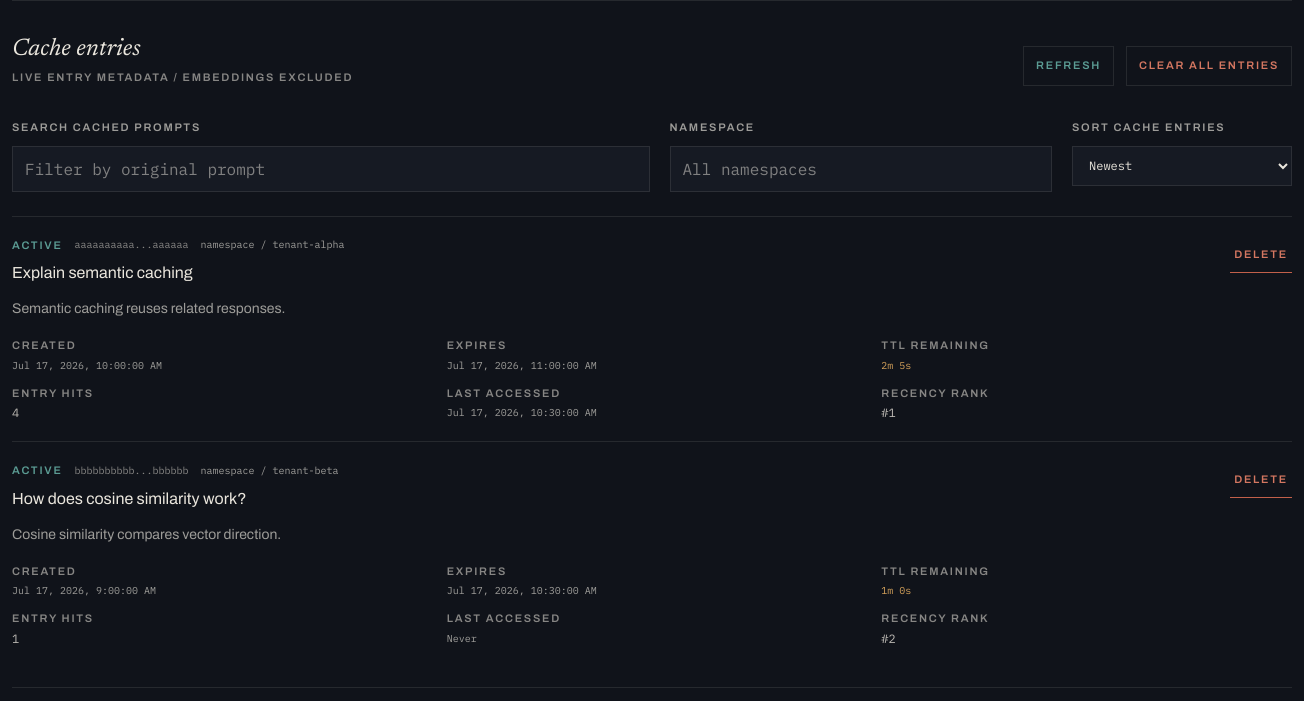
Test: CacheInspector › confirms clear-all and refreshes after the mutation
Expected: the heading "Explain semantic caching" is shown, [12,264,193,281]
Click the button "Clear all entries" at (1209, 66), box [1126,46,1292,86]
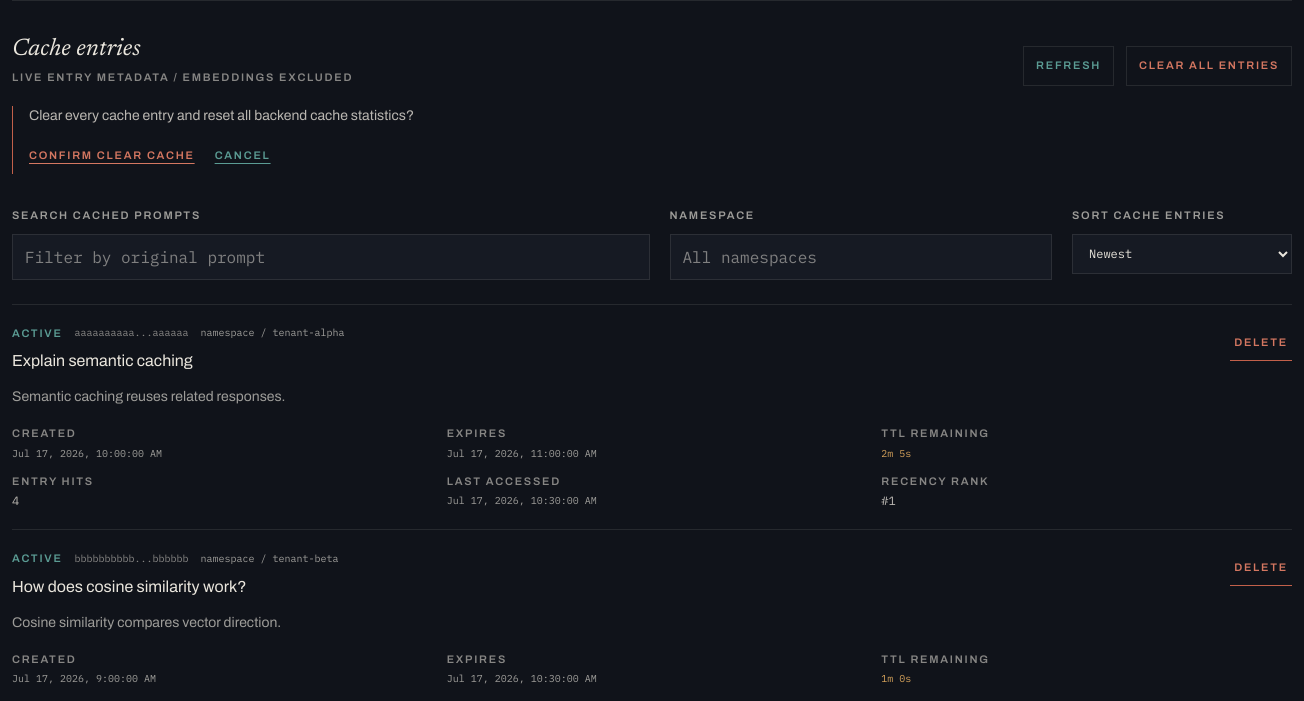
Now the element named "Confirm clear cache" is shown, box [12,106,1292,174]
Click the button "Confirm clear cache" at (112, 156), box [29,138,195,174]
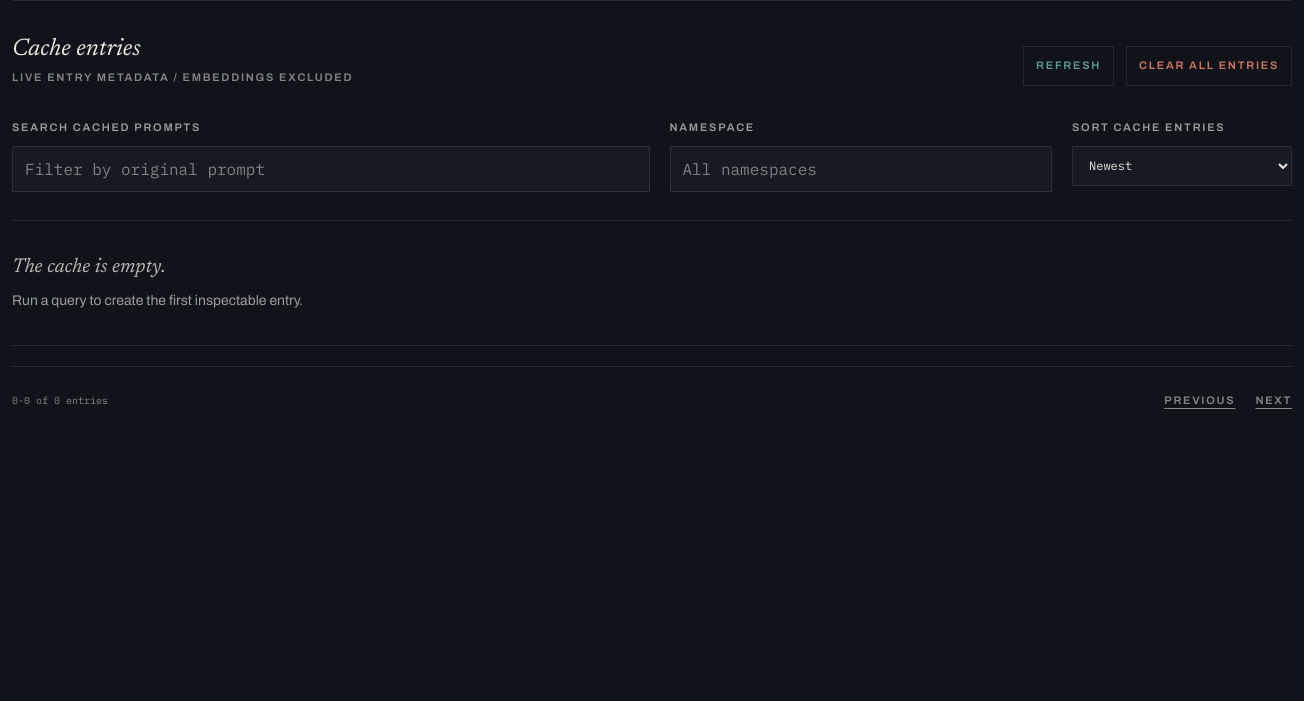
Now the text "The cache is empty." is shown, box [12,256,166,276]
